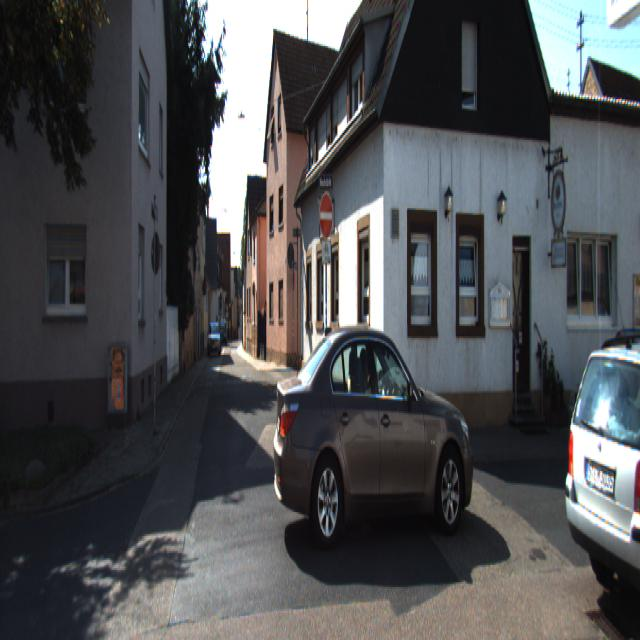Car: (273, 318, 478, 562), (562, 327, 640, 620)
